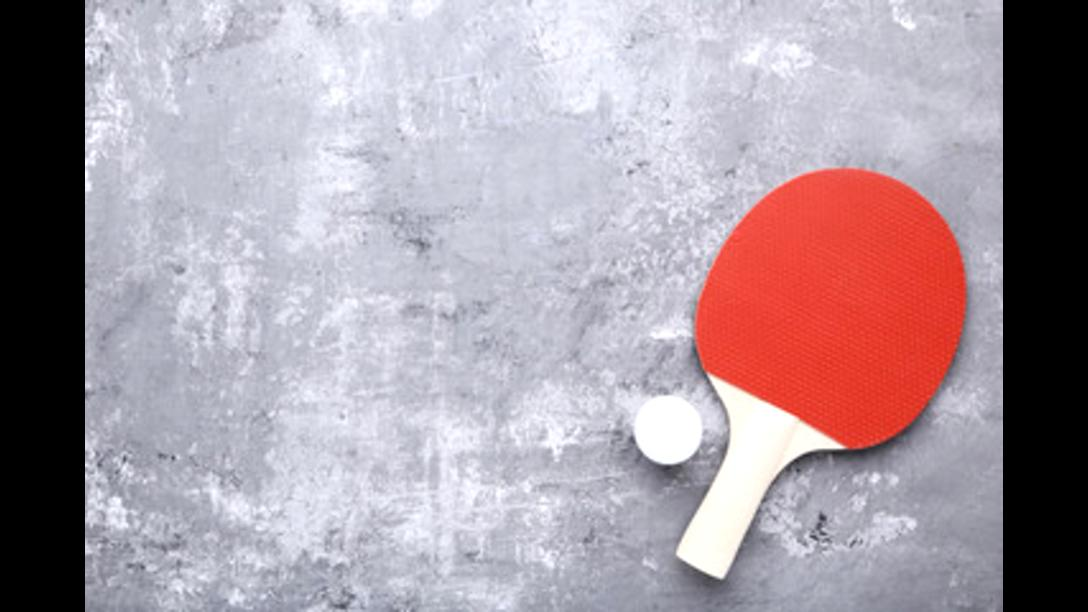Table-Tennis-Ball: (637, 395, 701, 462)
